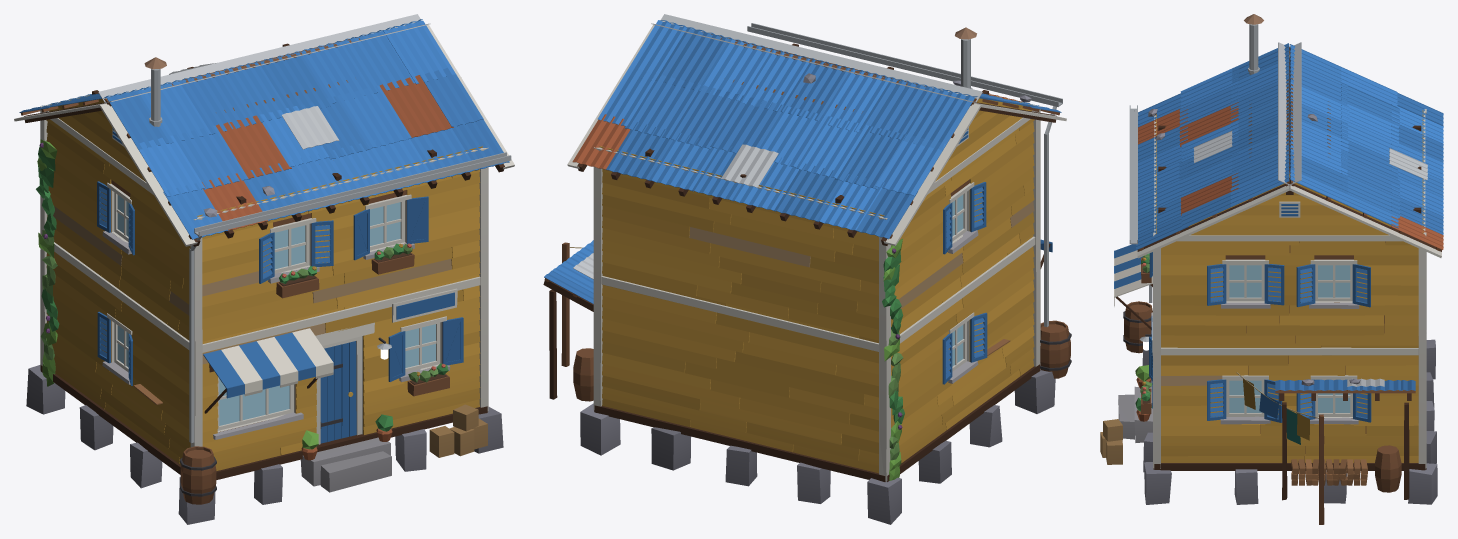
3 views of the same model, side by side, from view 1: azimuth 30°, elevation 25°; view 2: azimuth 150°, elevation 25°; view 3: azimuth 270°, elevation 25° (orthographic). The views are drawn at different scales.
Parts seen in each view (by area): view 1: P05_WALL_E, P05_ROOF, P05_WALL_S, P05_BASE, P05_DOOR_main, P05_WALL_N; view 2: P05_WALL_W, P05_ROOF, P05_WALL_S, P05_BASE, P05_WALL_E, P05_WALL_N; view 3: P05_WALL_N, P05_ROOF, P05_BASE, P05_WALL_E, P05_WALL_W.
Part boxes in pixels (x1=…): P05_WALL_E: x1=180, y1=146, x2=511, y2=504; P05_ROOF: x1=14, y1=14, x2=514, y2=246; P05_WALL_S: x1=36, y1=94, x2=201, y2=464; P05_BASE: x1=26, y1=365, x2=503, y2=524; P05_DOOR_main: x1=320, y1=341, x2=356, y2=443; P05_WALL_N: x1=405, y1=25, x2=488, y2=410; P05_WALL_W: x1=593, y1=146, x2=887, y2=481; P05_ROOF: x1=567, y1=14, x2=1066, y2=245; P05_WALL_S: x1=879, y1=98, x2=1040, y2=481; P05_BASE: x1=580, y1=364, x2=1055, y2=524; P05_WALL_E: x1=747, y1=23, x2=1071, y2=378; P05_WALL_N: x1=543, y1=147, x2=602, y2=406; P05_WALL_N: x1=1153, y1=171, x2=1426, y2=524; P05_ROOF: x1=1136, y1=14, x2=1443, y2=258; P05_BASE: x1=1118, y1=339, x2=1437, y2=504; P05_WALL_E: x1=1100, y1=105, x2=1156, y2=468; P05_WALL_W: x1=1418, y1=109, x2=1426, y2=468.
Size of the model in its own units: 7.77 by 7.66 by 6.47.
